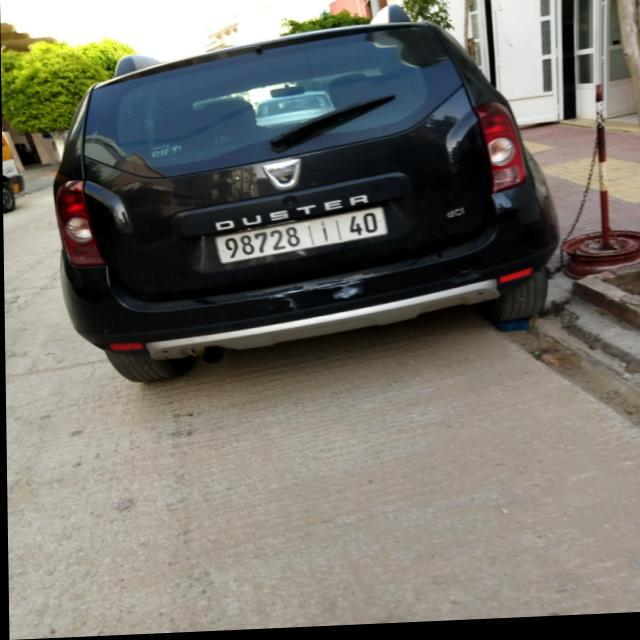License-Plate: (215, 211, 388, 266)
